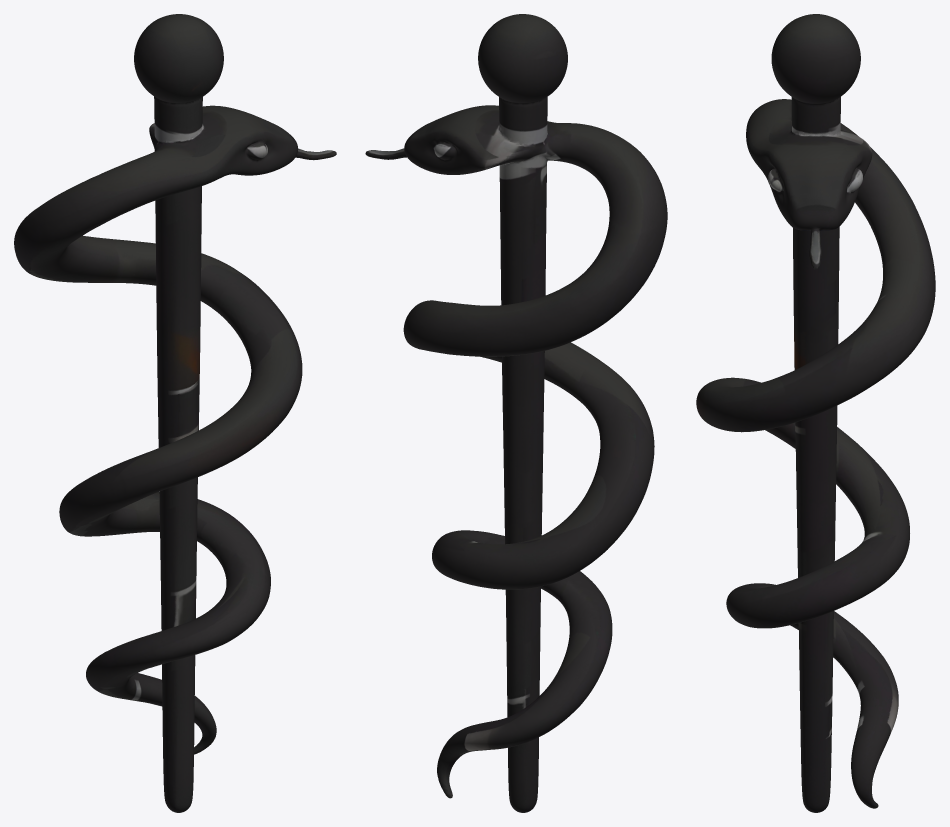
The model's file is medical-symbol.glb.
3 renders of one model, left to right at view 1: azimuth 30°, elevation 25°; view 2: azimuth 150°, elevation 25°; view 3: azimuth 270°, elevation 25°, orthographic.
Visible parts, largest first — view 1: tripo_node_59947822-a38f-4598-a641-dd0c9fe16b61; view 2: tripo_node_59947822-a38f-4598-a641-dd0c9fe16b61; view 3: tripo_node_59947822-a38f-4598-a641-dd0c9fe16b61.
Boxes of the visible parts, left/top/right/bottom form: tripo_node_59947822-a38f-4598-a641-dd0c9fe16b61: left=14, top=14, right=336, bottom=812; tripo_node_59947822-a38f-4598-a641-dd0c9fe16b61: left=365, top=14, right=667, bottom=812; tripo_node_59947822-a38f-4598-a641-dd0c9fe16b61: left=696, top=14, right=935, bottom=812.
Size of the model in its own units: 0.3957 by 1 by 0.2733.
1 material, 1 textured.
